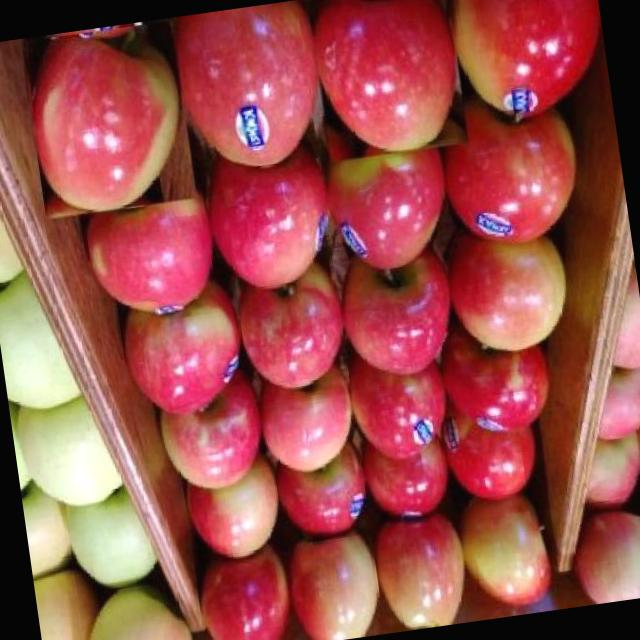Apple: (21, 20, 198, 220), (178, 1, 330, 180), (308, 0, 469, 162), (76, 181, 226, 328), (442, 106, 591, 248), (196, 148, 340, 294), (449, 0, 612, 121), (319, 142, 457, 271), (453, 230, 581, 358), (338, 248, 464, 378), (116, 303, 248, 419), (236, 272, 350, 396), (443, 330, 560, 442), (248, 370, 366, 480), (150, 389, 266, 492), (265, 443, 374, 552), (180, 456, 288, 564), (372, 520, 472, 634), (462, 498, 558, 616), (284, 534, 388, 640), (350, 363, 454, 460), (444, 412, 548, 504), (366, 431, 458, 526), (196, 554, 296, 640), (563, 503, 640, 607), (72, 580, 193, 640), (559, 431, 640, 513), (32, 561, 109, 640), (587, 362, 640, 440)
